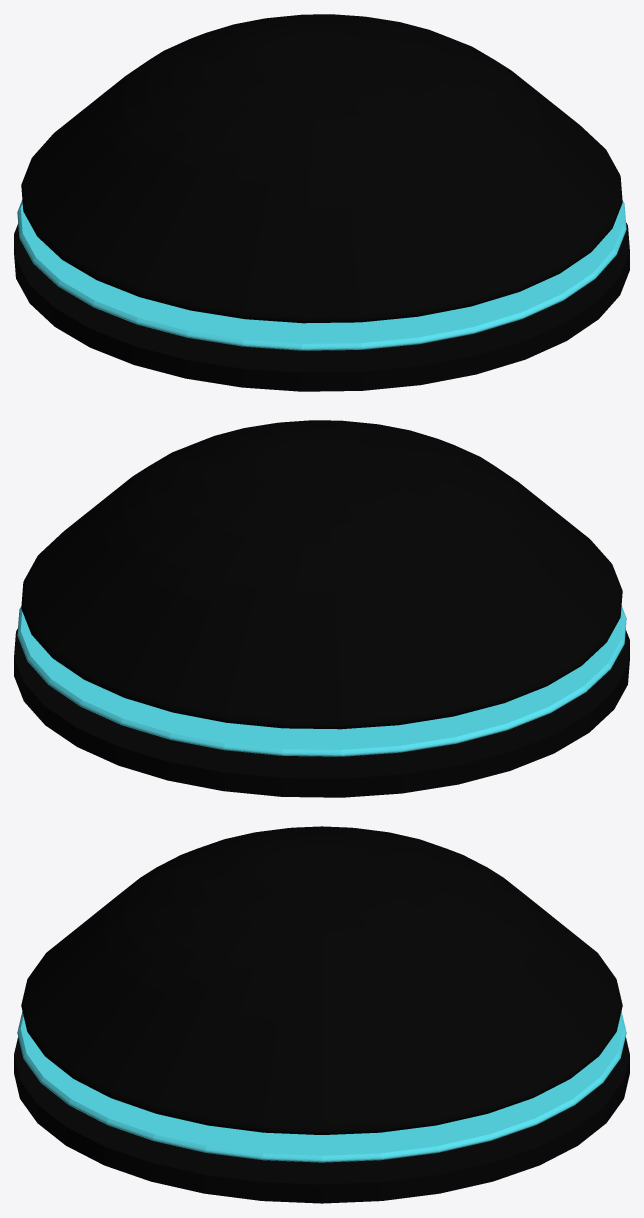
Rendered from socle1.obj.
3 renders of one model, top to bottom at view 1: azimuth 30°, elevation 25°; view 2: azimuth 150°, elevation 25°; view 3: azimuth 270°, elevation 25°, orthographic.
Visible parts, largest first — view 1: Cylindre, Cylindre.001; view 2: Cylindre, Cylindre.001; view 3: Cylindre, Cylindre.001.
Boxes of the visible parts, x1,y1,x2,y2 form: Cylindre: (14,14,629,391); Cylindre.001: (17,200,626,350); Cylindre: (14,420,629,797); Cylindre.001: (17,606,626,756); Cylindre: (14,826,629,1203); Cylindre.001: (17,1011,626,1162).
Size of the model in its own units: 2 by 0.7186 by 2.
